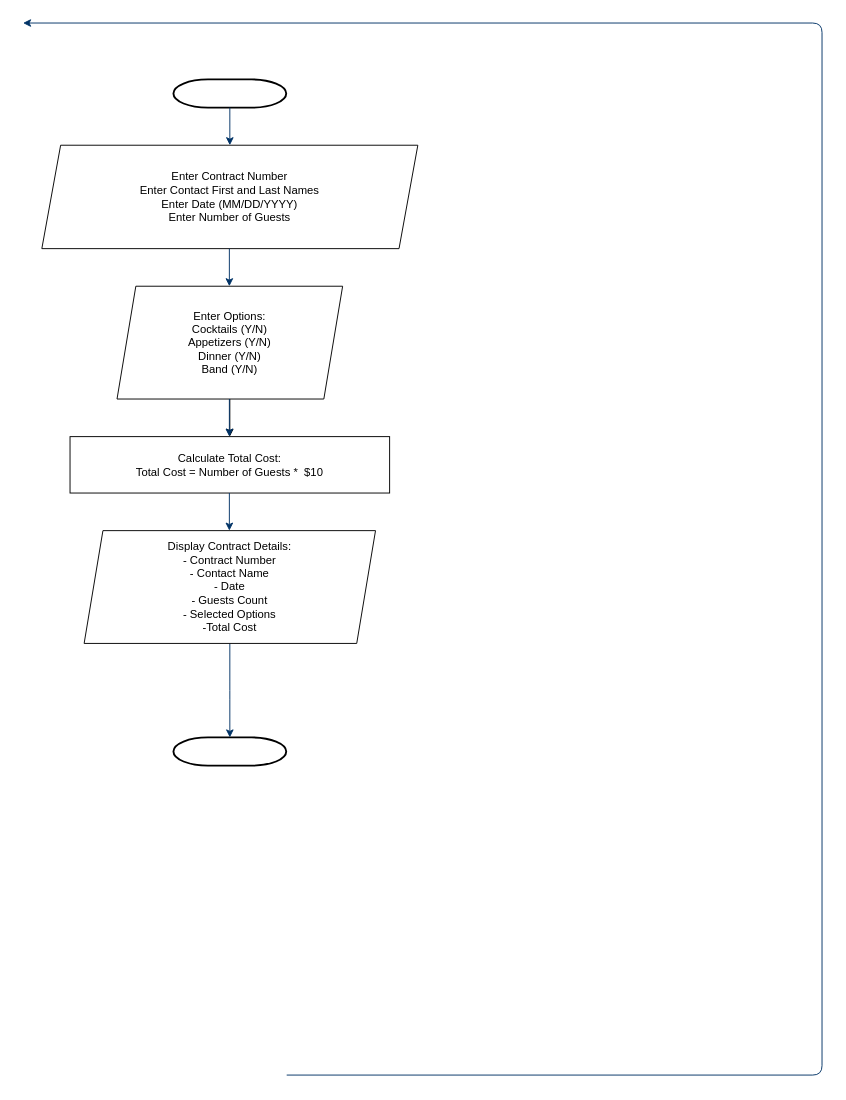
Image size: 846x1100. Some labels were removed from this diagram. The centre of each missing label's shape, as x and y in pixels:
"START" goes at point 229,93.
"STOP" goes at point 229,751.
